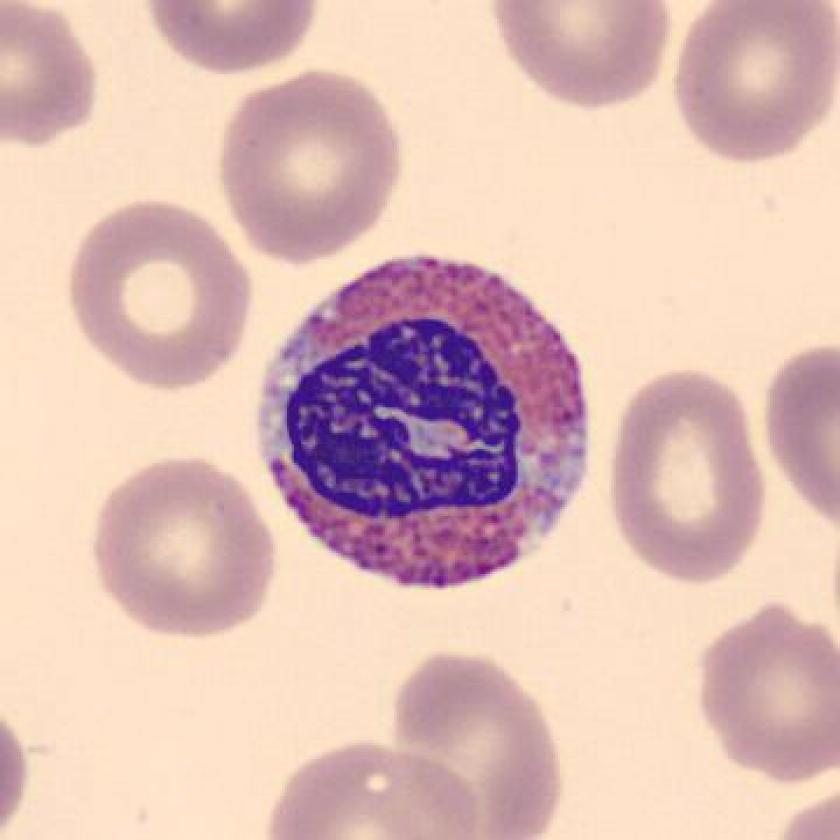eosinophil: (246, 244, 608, 603)
